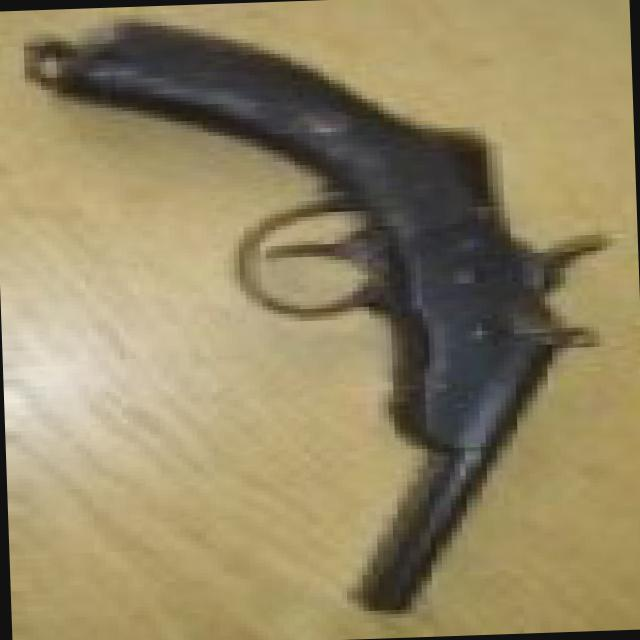handgun: (70, 2, 628, 620)
